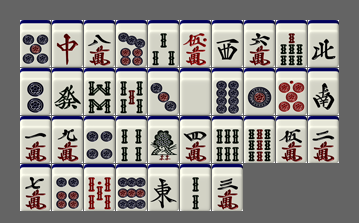0m: (180, 20, 211, 67)
0p: (276, 68, 307, 115)
0s: (84, 164, 115, 211)
1m: (20, 116, 51, 163)
1p: (244, 68, 275, 115)
1s: (148, 116, 179, 163)
1z: (148, 164, 179, 211)
2m: (308, 116, 339, 163)
2p: (20, 68, 51, 115)
2s: (180, 164, 211, 211)
2z: (308, 68, 339, 115)
3m: (212, 164, 243, 211)
3p: (148, 68, 179, 115)
3s: (148, 20, 179, 67)
3z: (212, 20, 243, 67)
4m: (180, 116, 211, 163)
4p: (84, 116, 115, 163)
4s: (116, 116, 147, 163)
4z: (308, 20, 339, 67)
5m: (276, 116, 307, 163)
5p: (20, 20, 51, 67)
5s: (116, 68, 147, 115)
5z: (180, 68, 211, 115)
6m: (244, 20, 275, 67)
6p: (52, 164, 83, 211)
6s: (212, 116, 243, 163)
6z: (52, 68, 83, 115)
7m: (20, 164, 51, 211)
7p: (116, 20, 147, 67)
7s: (276, 20, 307, 67)
7z: (52, 20, 83, 67)
8m: (84, 20, 115, 67)
8p: (212, 68, 243, 115)
8s: (84, 68, 115, 115)
9m: (52, 116, 83, 163)
9p: (116, 164, 147, 211)
9s: (244, 116, 275, 163)
